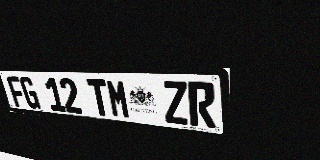1: (43, 77, 66, 112)
2: (58, 77, 82, 114)
F: (6, 76, 28, 108)
G: (18, 76, 41, 109)
M: (105, 79, 131, 119)
R: (187, 81, 216, 128)
T: (86, 78, 112, 117)
Z: (162, 81, 189, 125)
